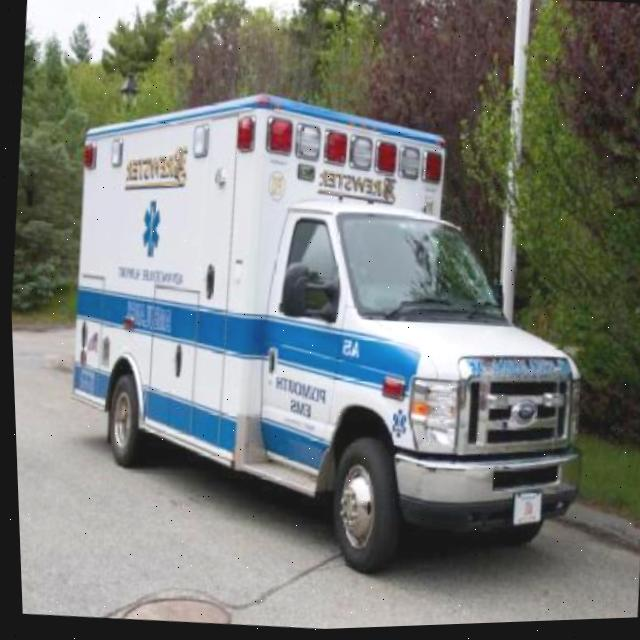emergency: (40, 67, 612, 602)
